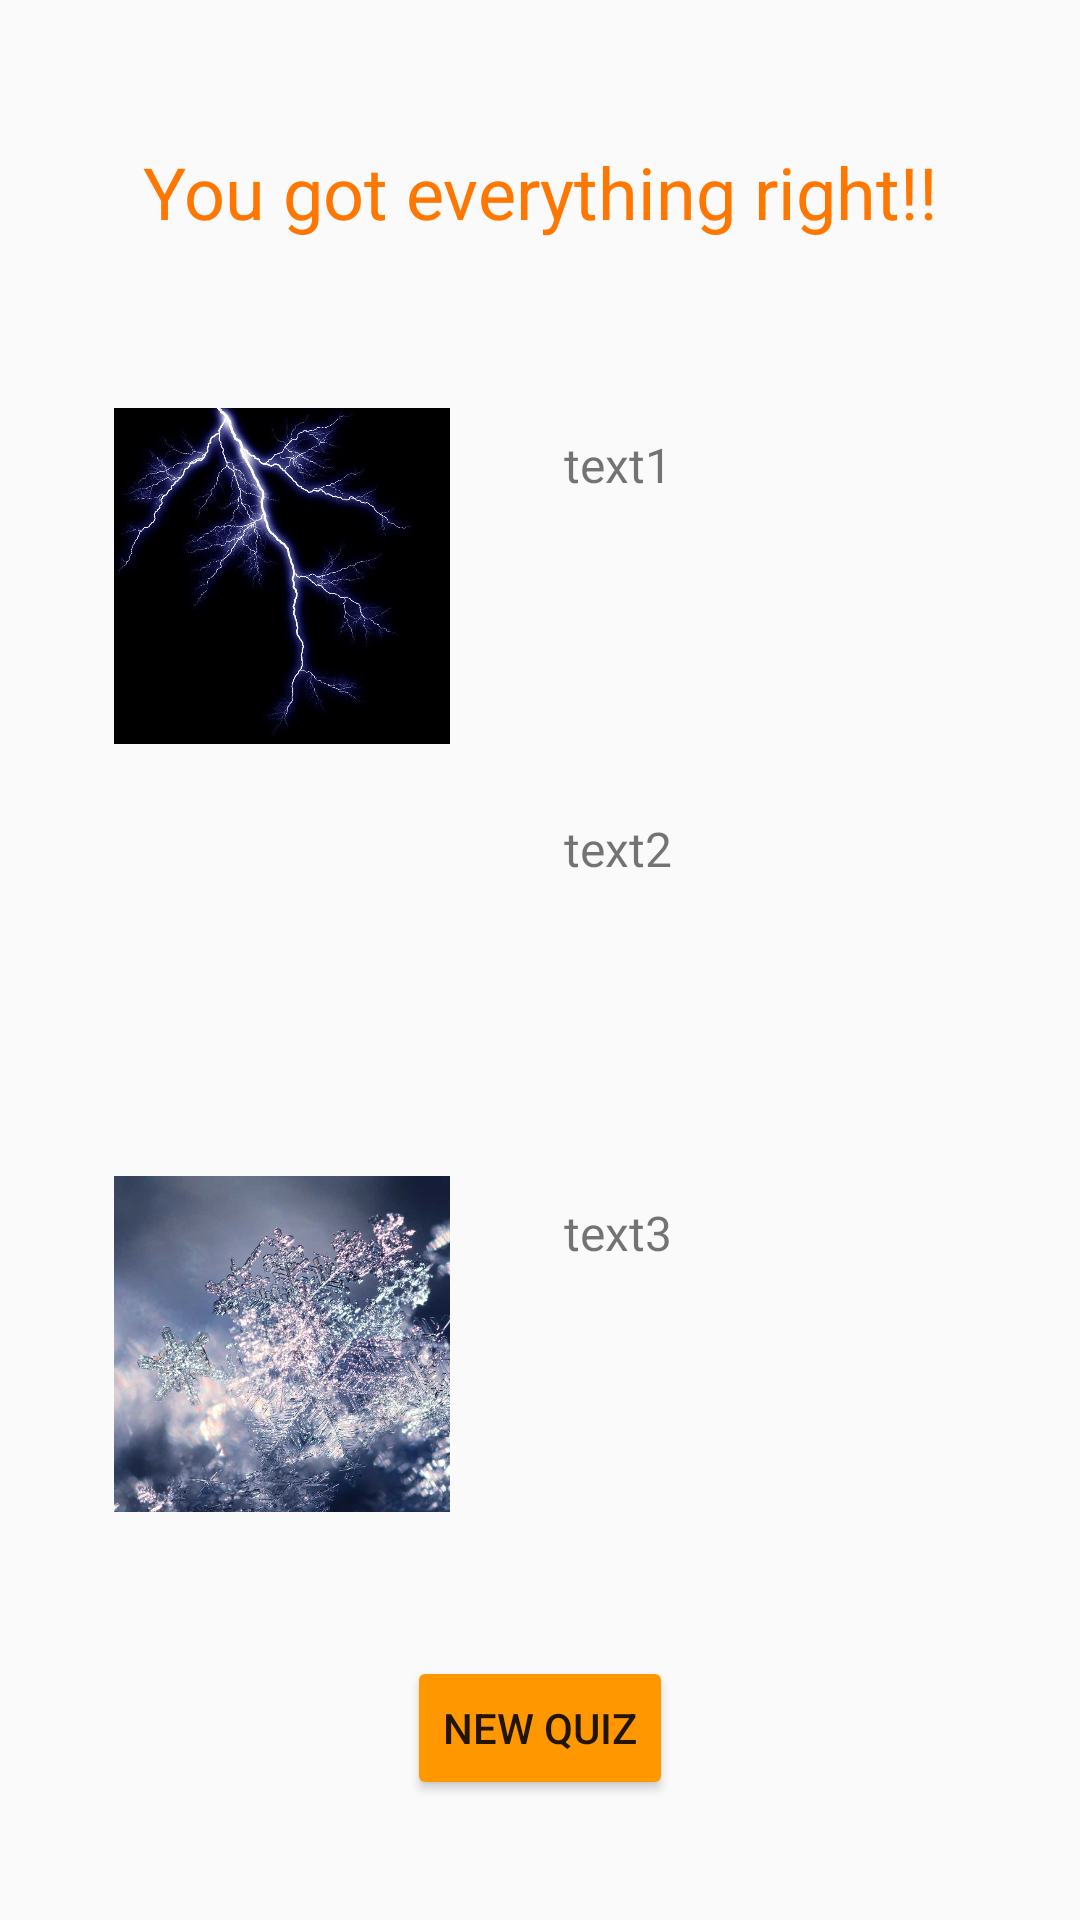

Locate icon controls on the screen. Image size 1080 × 1920, boxes as (x1, y1, x2, y2).
fractal: (114, 408, 450, 744), (114, 1176, 450, 1512)
